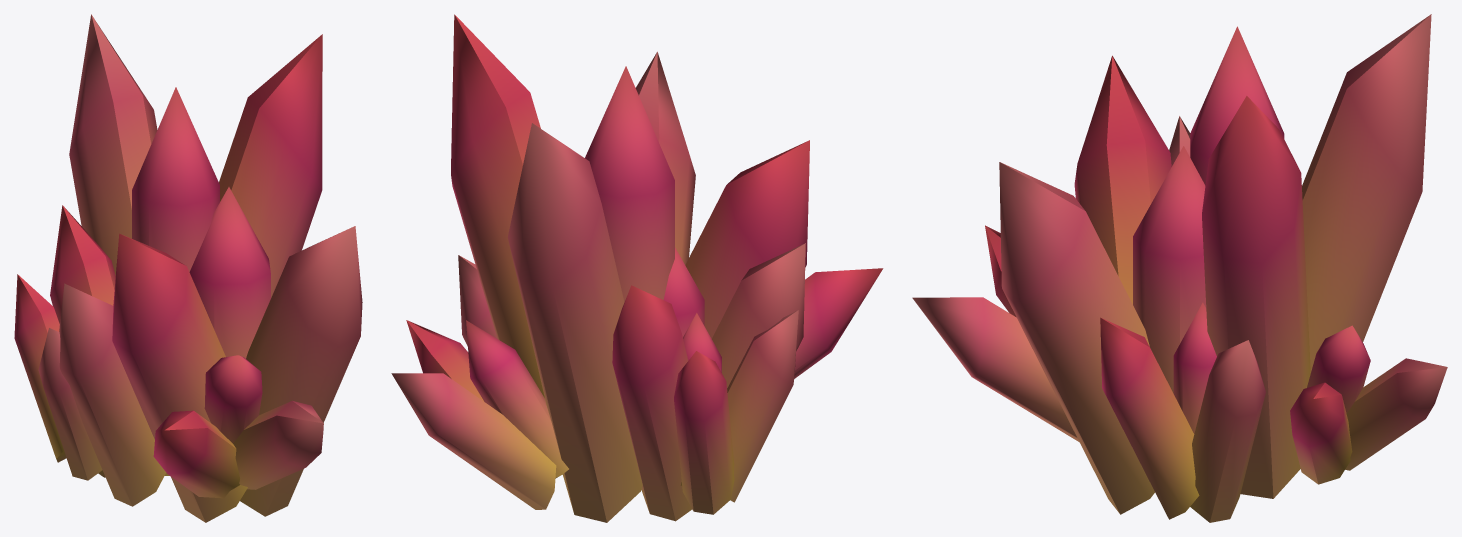
The model's file is ruby.glb.
3 views of the same model, side by side, from view 1: azimuth 30°, elevation 25°; view 2: azimuth 150°, elevation 25°; view 3: azimuth 270°, elevation 25° (orthographic). The views are drawn at different scales.
Visible parts, largest first — view 1: Object_3; view 2: Object_3; view 3: Object_3.
Part boxes in pixels (x1=…): Object_3: x1=14, y1=14, x2=362, y2=522; Object_3: x1=391, y1=14, x2=883, y2=522; Object_3: x1=912, y1=14, x2=1447, y2=522.
Bounding box in the file's own units: 0.4529 × 0.5784 × 0.5981.
